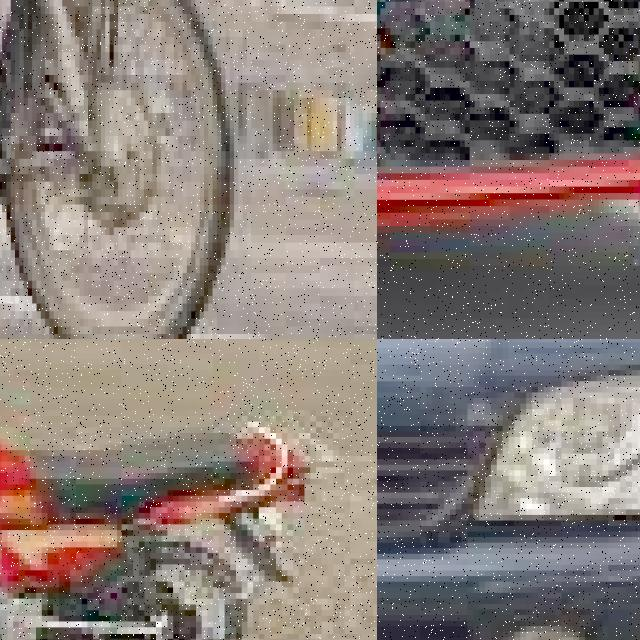bike: (0, 376, 316, 640), (0, 0, 238, 339)
car: (377, 0, 640, 318), (377, 339, 640, 640)
